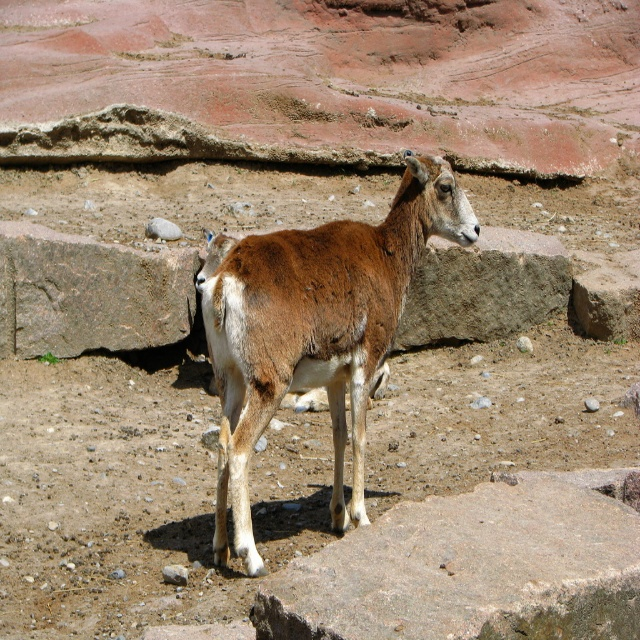Goat: (192, 157, 456, 582)
